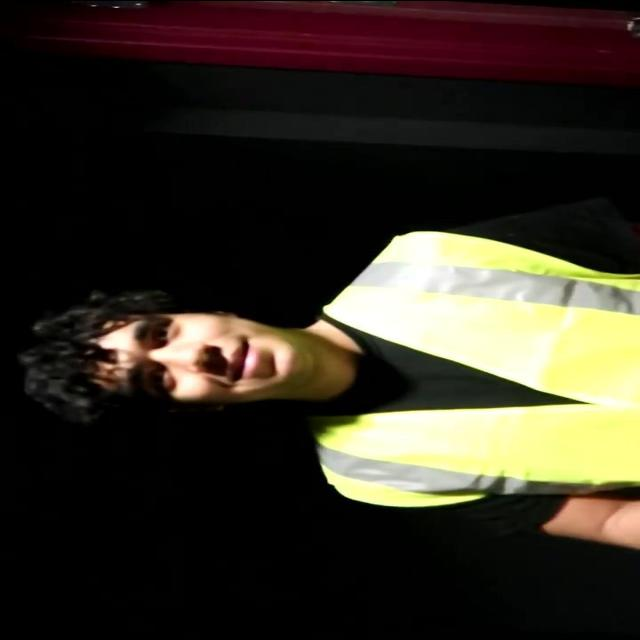jacket: (296, 213, 640, 521)
